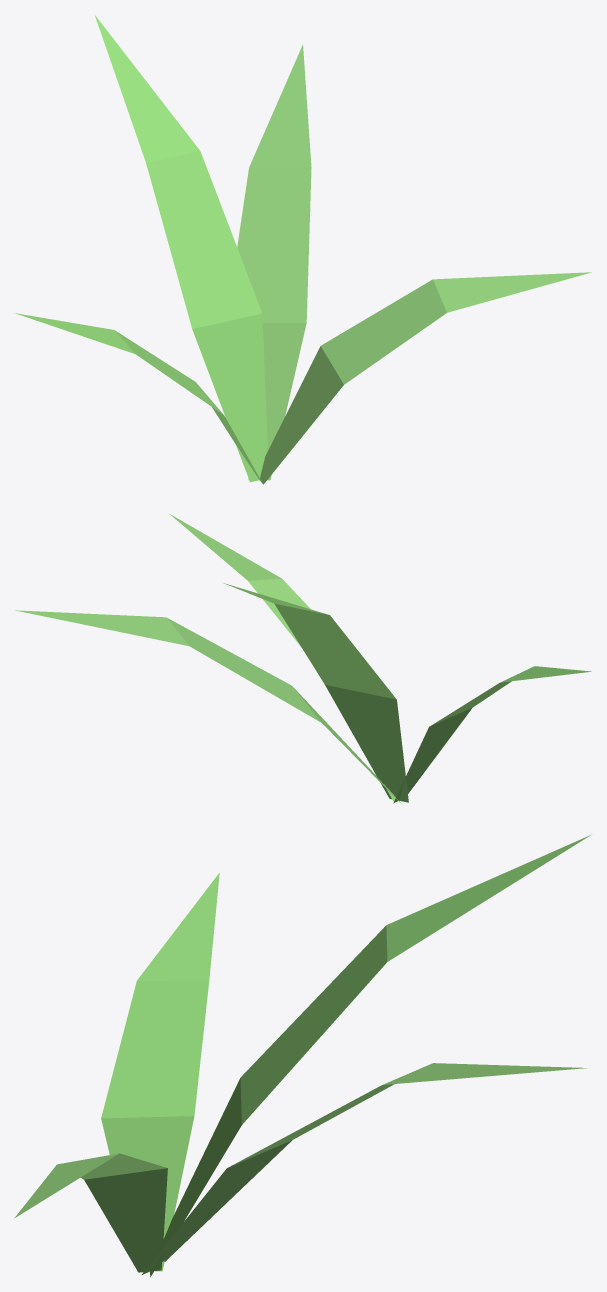
The model's file is Plant_e_OneS_04.fbx.
The picture shows the model from 3 angles, top to bottom: view 1: azimuth 30°, elevation 25°; view 2: azimuth 150°, elevation 25°; view 3: azimuth 270°, elevation 25°; orthographic projection. The views are drawn at different scales.
Parts seen in each view (by area): view 1: Plant_e_OneS_04; view 2: Plant_e_OneS_04; view 3: Plant_e_OneS_04.
Part boxes in pixels (x1,y1,x2,y2): Plant_e_OneS_04: (14, 15, 591, 484); Plant_e_OneS_04: (15, 514, 591, 803); Plant_e_OneS_04: (14, 834, 591, 1277).
Size of the model in its own units: 67.12 by 43.75 by 51.89.
